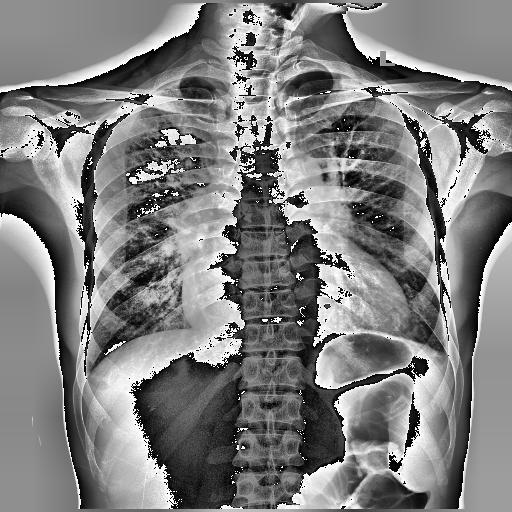0- Aortic enlargement: (260, 151, 324, 207)
11- Pleural thickening: (133, 76, 184, 106), (339, 74, 374, 94)
3- Cardiomegaly: (180, 265, 404, 342), (179, 258, 408, 332), (180, 270, 412, 336)
